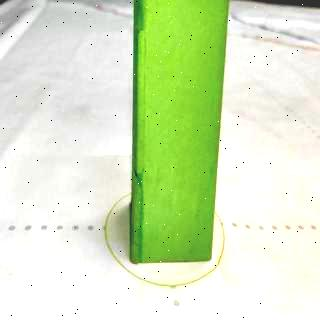greenbox: (134, 0, 230, 260)
